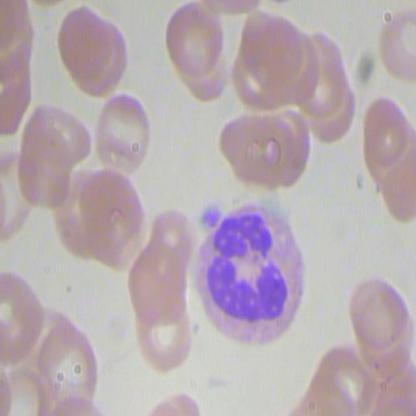RBC: (79, 166, 157, 277), (214, 111, 296, 195), (343, 271, 411, 354), (36, 322, 104, 405), (124, 244, 192, 326), (92, 86, 153, 176), (55, 3, 118, 88), (242, 10, 304, 90), (163, 1, 224, 81), (130, 301, 195, 375), (358, 95, 412, 168)
WBC: (185, 195, 308, 353)
